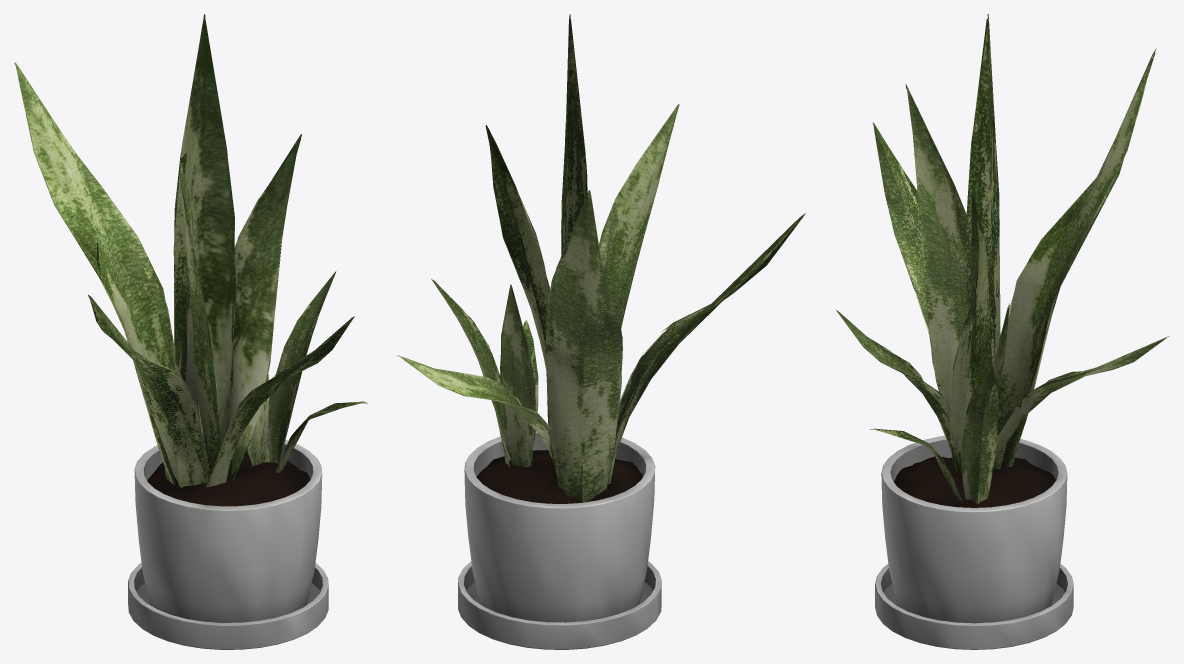
The model's file is marble-snake.glb.
3 renders of one model, left to right at view 1: azimuth 30°, elevation 25°; view 2: azimuth 150°, elevation 25°; view 3: azimuth 270°, elevation 25°, orthographic. The views are drawn at different scales.
Parts seen in each view (by area): view 1: leaf, solid; view 2: leaf, solid; view 3: leaf, solid.
Part boxes in pixels (box(x1,y1,x2,y2)): leaf: box(14, 14, 368, 487); solid: box(128, 439, 328, 649); leaf: box(397, 14, 805, 502); solid: box(458, 431, 661, 649); leaf: box(836, 14, 1169, 503); solid: box(875, 435, 1073, 649).
Size of the model in its own units: 0.5928 by 1.09 by 0.5618.
Materials: 2 (1 with a texture image).
